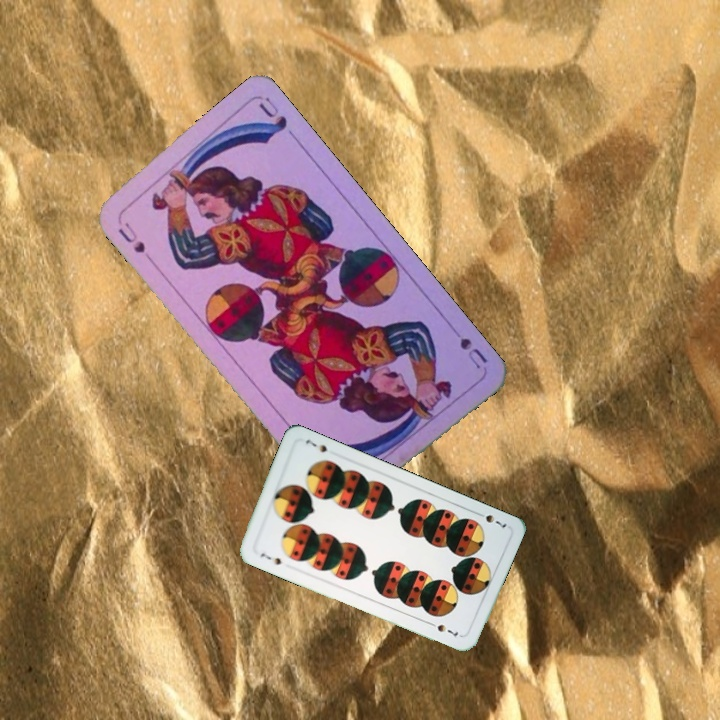S7: (472, 508, 509, 530), (256, 549, 284, 568)
SU: (444, 321, 490, 372), (114, 217, 156, 266)
